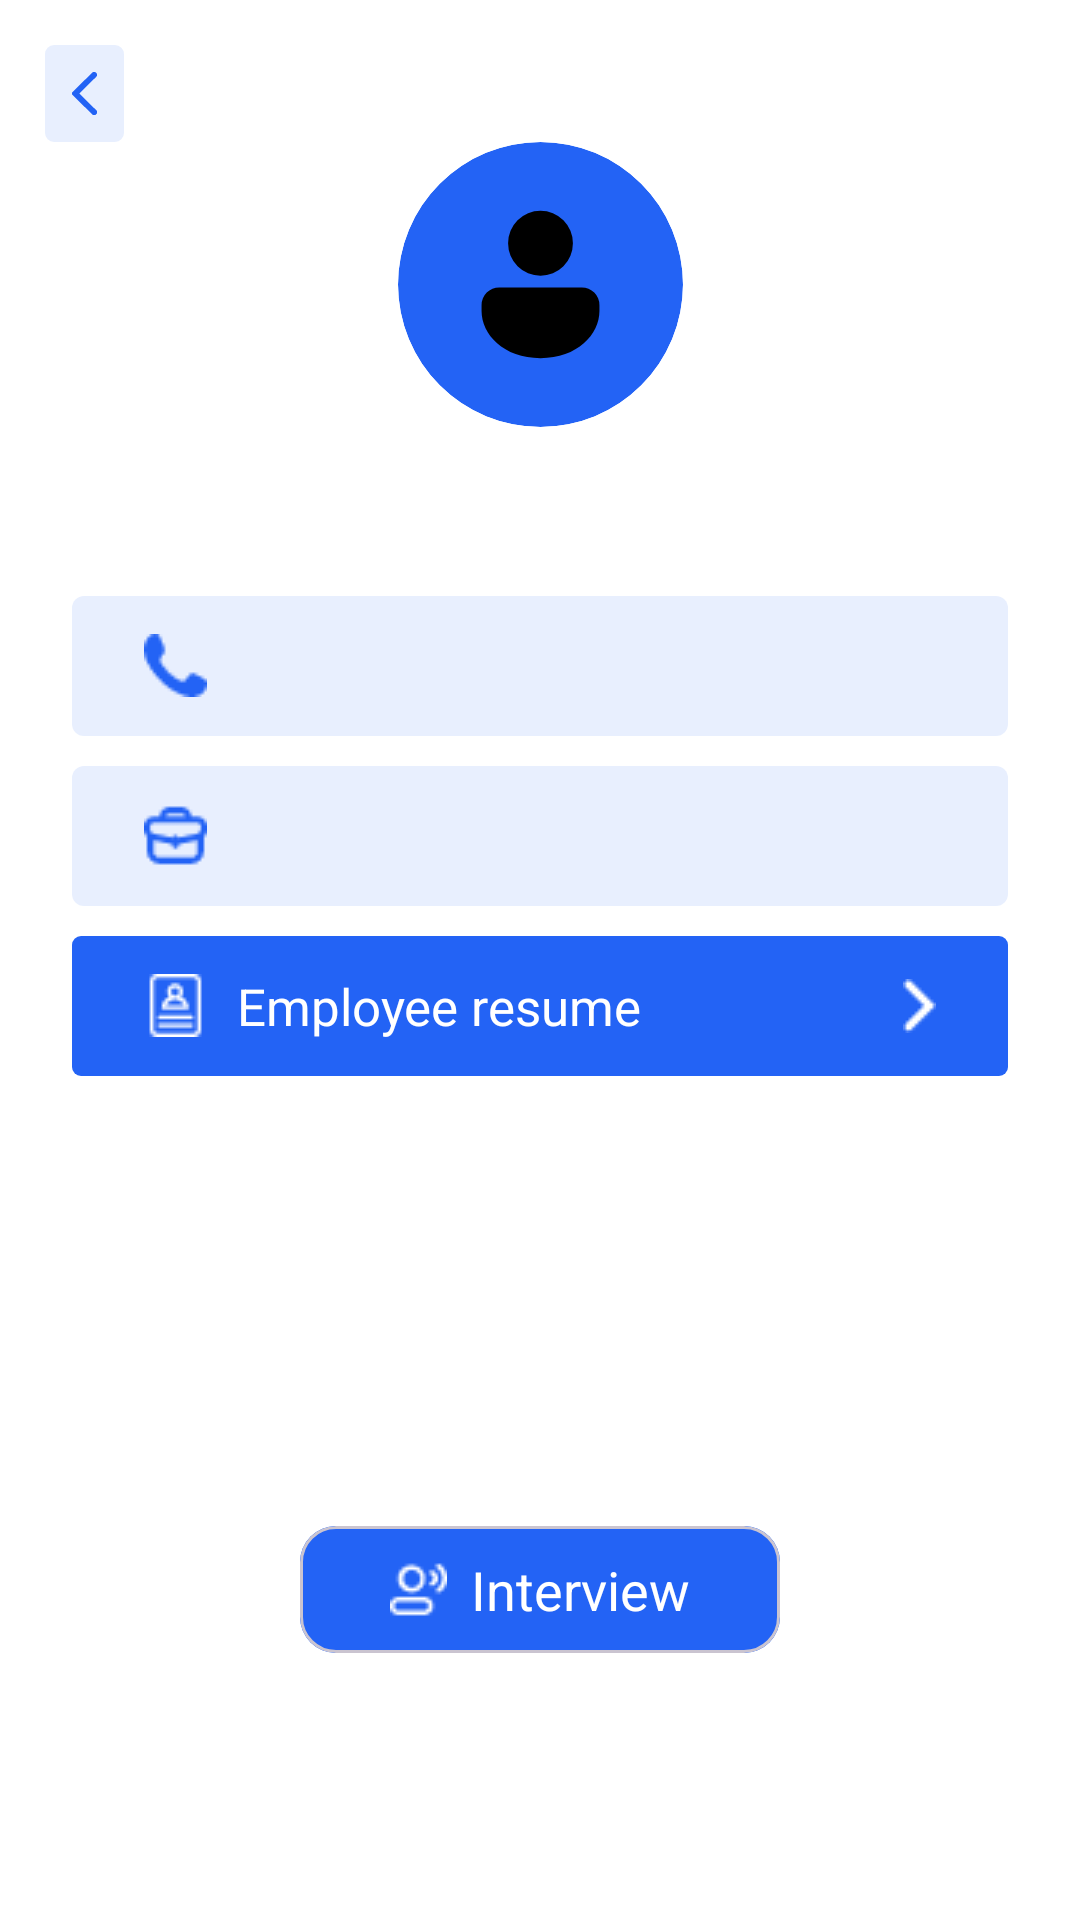

Icon click points for this 1080 x 1920 phone screenshot, format (x=x, y=y):
back: (x=84, y=93)
employee: (x=540, y=284)
